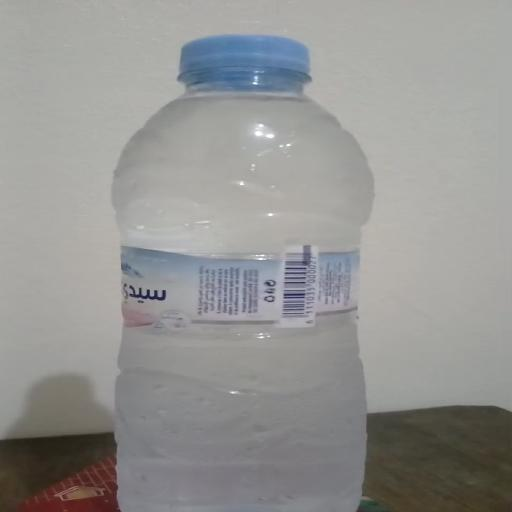bouteille conformite: (118, 32, 387, 512)
